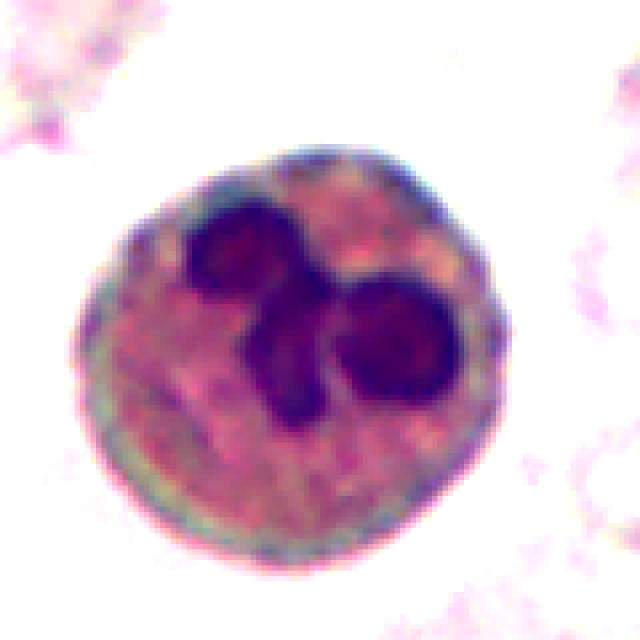WBC: (43, 123, 544, 592)
